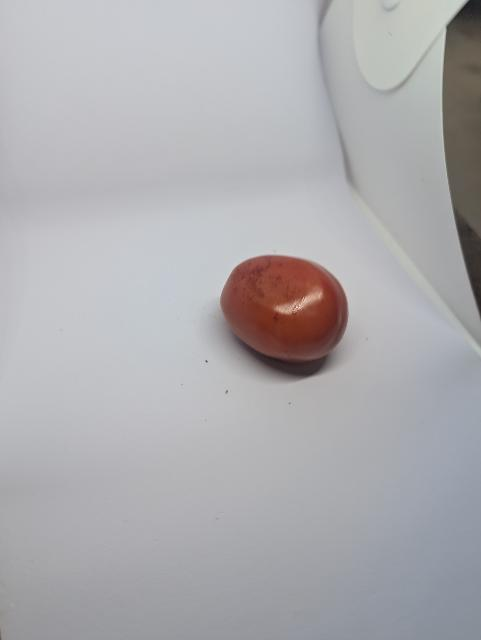red: (219, 254, 353, 363)
